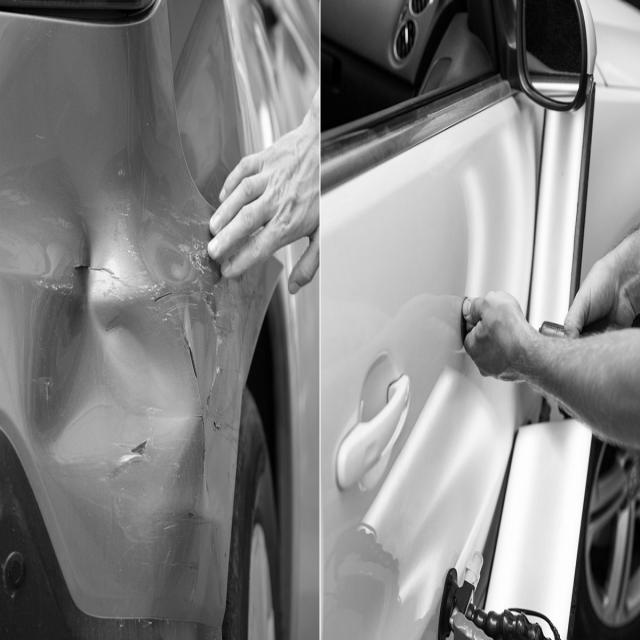dent: (12, 162, 212, 568)
scratch: (30, 159, 270, 617)
tear: (72, 261, 90, 271)
